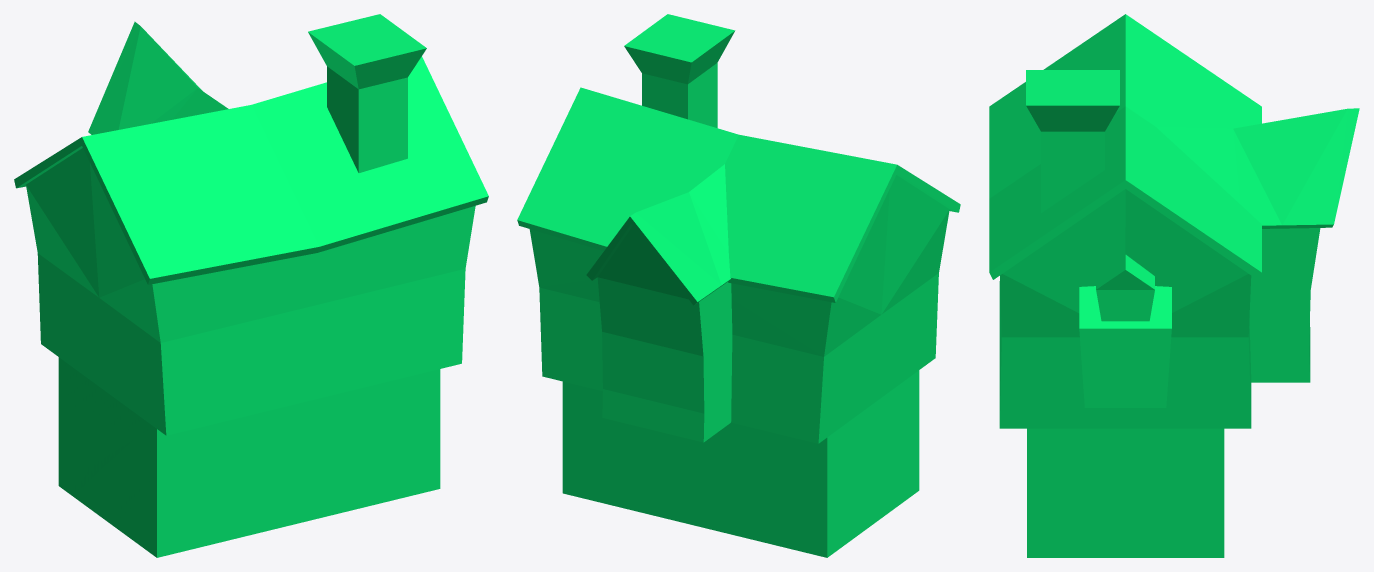
File: Building11_Collision.FBX
3 views of the same model, side by side, from view 1: azimuth 30°, elevation 25°; view 2: azimuth 150°, elevation 25°; view 3: azimuth 270°, elevation 25° (orthographic). The views are drawn at different scales.
Parts seen in each view (by area): view 1: Building11_Collision; view 2: Building11_Collision; view 3: Building11_Collision.
Boxes of the visible parts, x1,y1,x2,y2 form: Building11_Collision: (14,14,488,557); Building11_Collision: (517,14,960,557); Building11_Collision: (989,14,1359,557).
Bounding box in the file's own units: 16.89 × 19.86 × 14.96.
